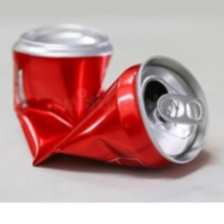can: (3, 14, 210, 179)
